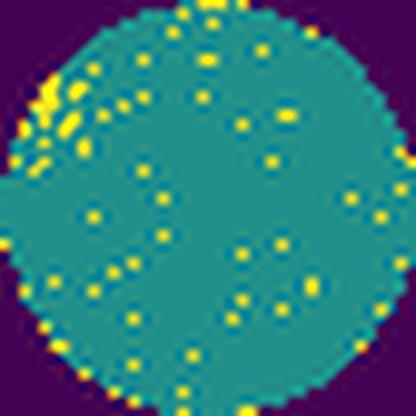Edge-Loc: (27, 71, 65, 133)
